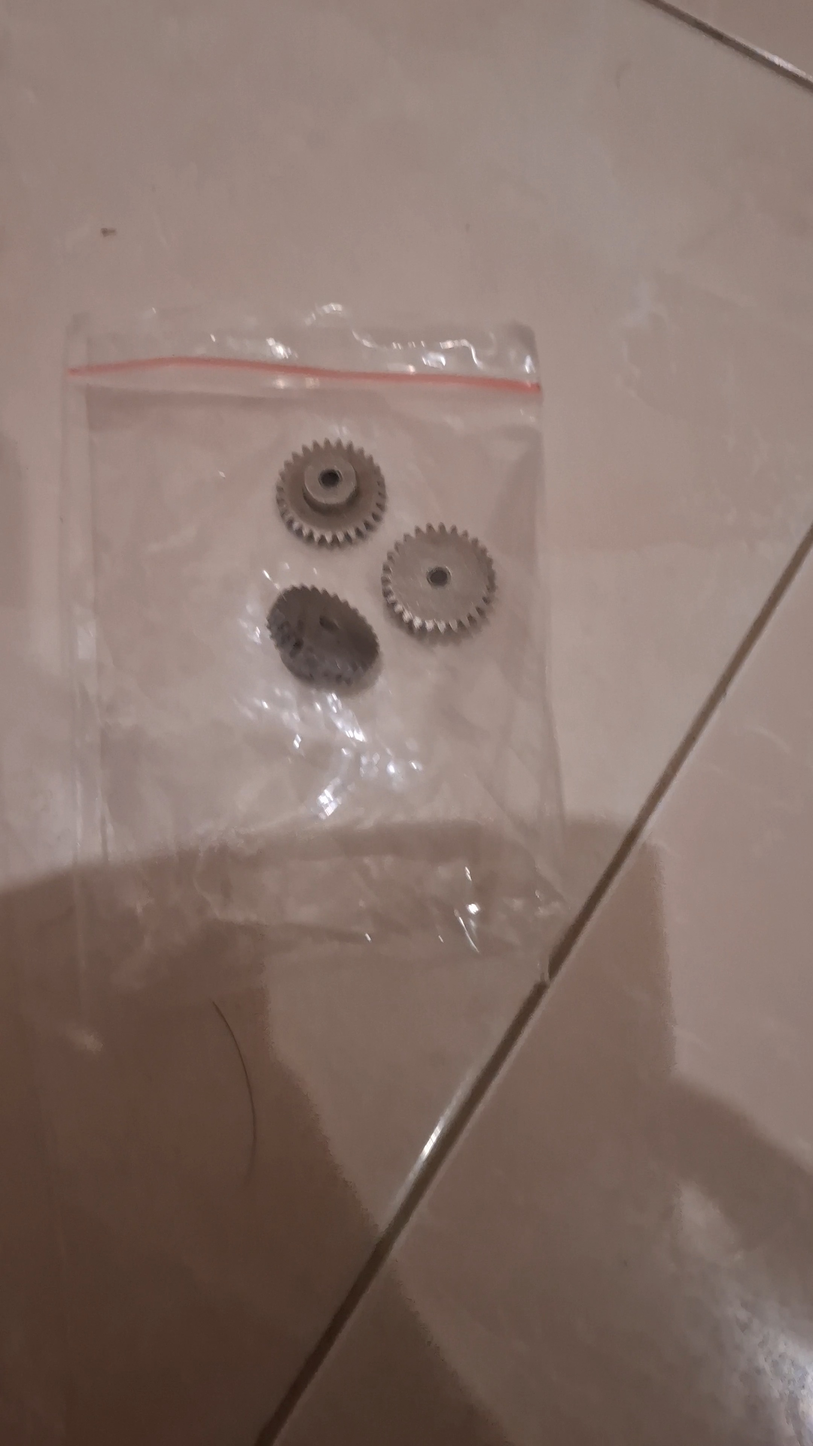spur gear: (378, 524, 498, 641), (273, 439, 389, 549), (265, 583, 380, 691)
